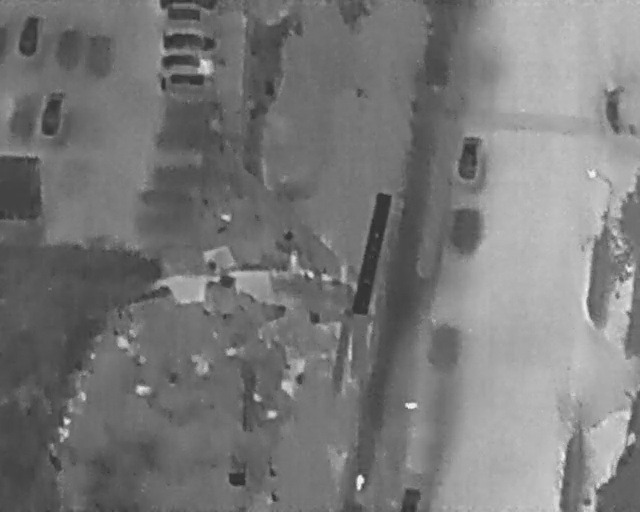Car: (39, 90, 64, 137), (161, 73, 214, 95), (162, 53, 215, 74), (164, 32, 218, 52), (457, 134, 480, 179), (17, 14, 41, 56), (159, 0, 217, 11)
Person: (354, 473, 365, 491)
